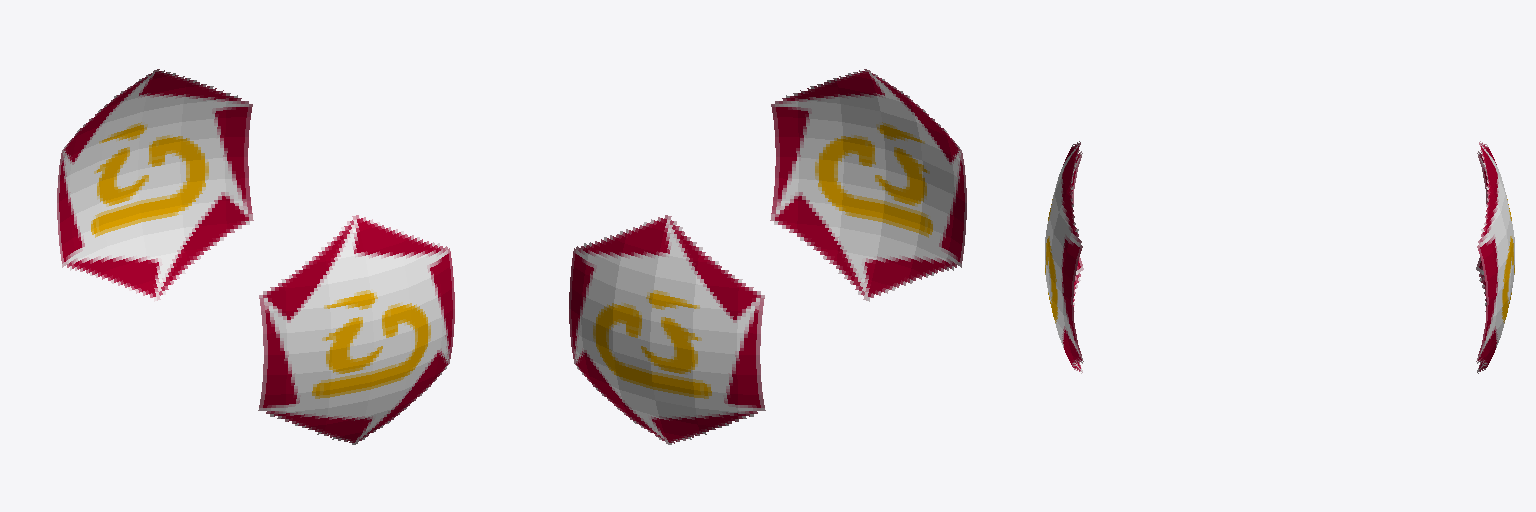
3 views of the same model, side by side, from view 1: azimuth 30°, elevation 25°; view 2: azimuth 150°, elevation 25°; view 3: azimuth 270°, elevation 25° (orthographic).
Parts seen in each view (by area): view 1: g0; view 2: g0; view 3: g0.
Boxes of the visible parts, box(x1,y1,x2,y2) form: g0: box(57, 69, 454, 444); g0: box(569, 69, 966, 444); g0: box(1045, 141, 1514, 373).
Bounding box in the file's own units: 1 × 1 × 1.
1 materials, 1 textured.